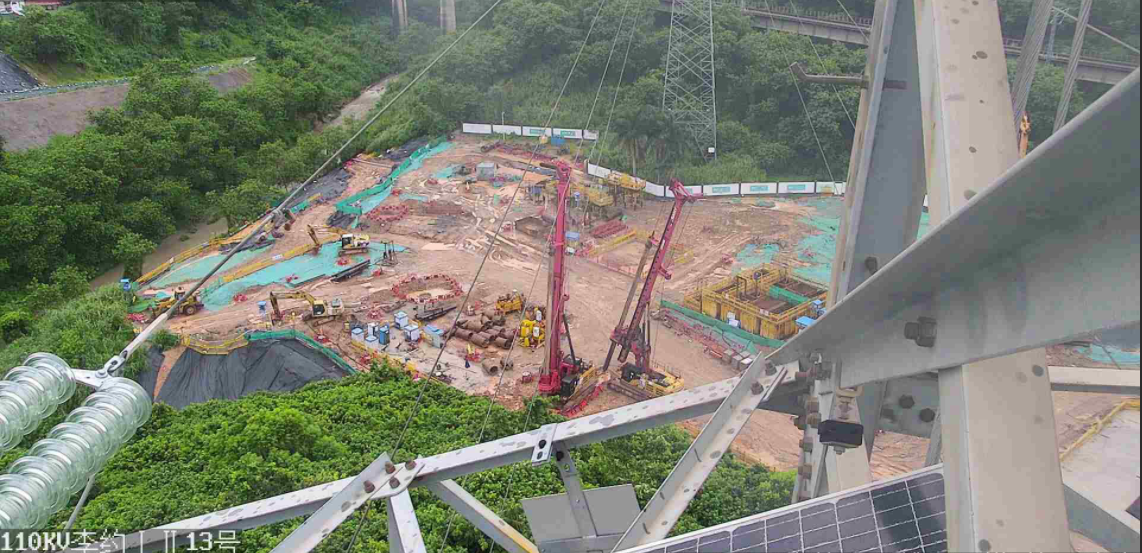绿膜: (198, 239, 408, 313), (349, 140, 455, 229), (773, 194, 844, 283), (136, 250, 267, 293), (1076, 341, 1141, 367), (729, 243, 779, 276), (916, 211, 930, 239), (755, 199, 775, 207), (492, 193, 500, 206), (266, 233, 276, 239), (731, 197, 741, 203)
